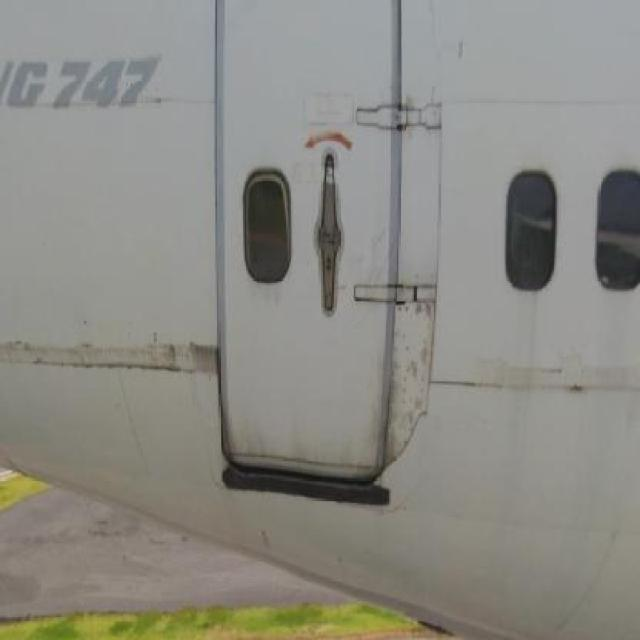Rust: (2, 315, 227, 400), (375, 65, 442, 170), (512, 269, 534, 480)
Scartch: (358, 222, 442, 472)
